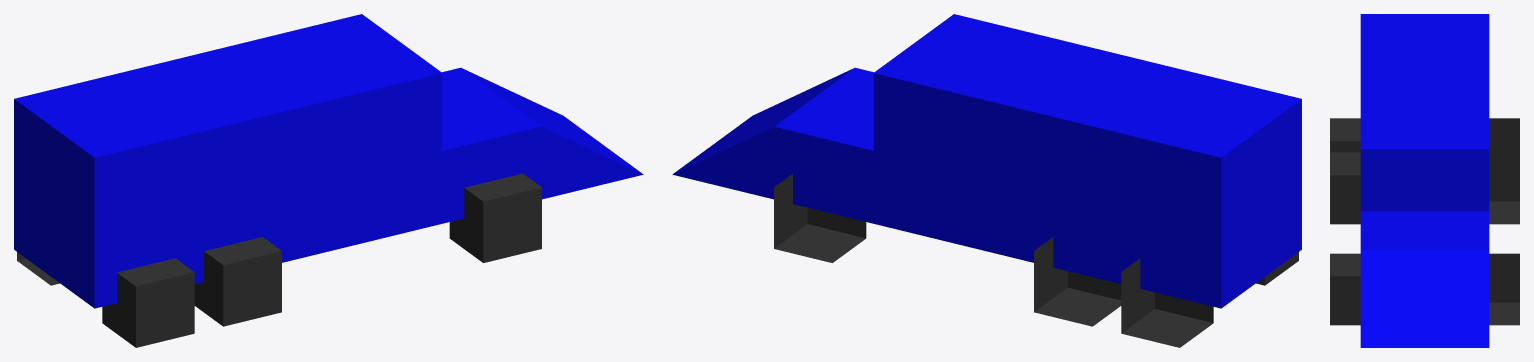
File: Truck.obj
The picture shows the model from 3 angles, left to right: view 1: azimuth 30°, elevation 25°; view 2: azimuth 150°, elevation 25°; view 3: azimuth 270°, elevation 25°; orthographic projection. The views are drawn at different scales.
Visible parts, largest first — view 1: Truck; view 2: Truck; view 3: Truck.
Part boxes in pixels (x1,y1,x2,y2): Truck: (14,14,643,347); Truck: (672,14,1301,347); Truck: (1330,14,1519,347).
Bounding box in the file's own units: 7.87 × 2.49 × 2.95.
